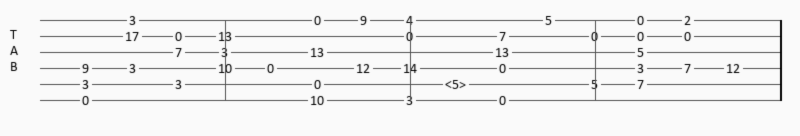0: (82, 94, 93, 107), (175, 30, 186, 43), (267, 62, 278, 75), (314, 14, 325, 27), (314, 78, 325, 91), (406, 30, 417, 43), (499, 94, 510, 107), (499, 62, 510, 75), (591, 30, 602, 43), (637, 30, 648, 43), (637, 14, 648, 27), (684, 30, 695, 43)
10: (218, 62, 236, 75), (310, 94, 328, 107)
12: (356, 62, 374, 75), (726, 62, 744, 75)
13: (218, 30, 236, 43), (310, 46, 328, 59), (495, 46, 513, 59)
14: (403, 62, 421, 75)
17: (125, 30, 143, 43)
2: (684, 14, 695, 27)
3: (82, 78, 93, 91), (129, 62, 140, 75), (129, 14, 140, 27), (175, 78, 186, 91), (221, 46, 232, 59), (406, 94, 417, 107), (637, 62, 648, 75)
4: (406, 14, 417, 27)
5: (545, 14, 556, 27), (591, 78, 602, 91), (637, 46, 648, 59)
7: (175, 46, 186, 59), (499, 30, 510, 43), (637, 78, 648, 91), (684, 62, 695, 75)
9: (82, 62, 93, 75), (360, 14, 371, 27)
harmonic: (445, 78, 470, 91)
